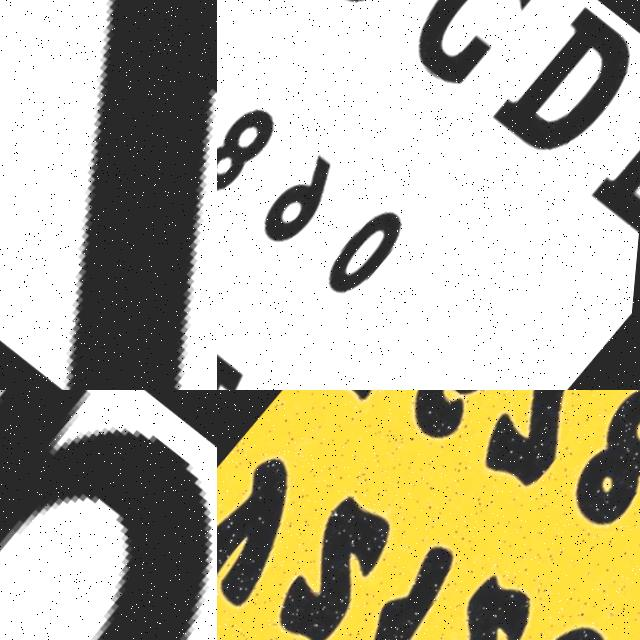0: (315, 186, 438, 316)
1: (319, 525, 495, 640)
2: (385, 556, 579, 640)
5: (281, 390, 480, 444)
6: (354, 390, 558, 484)
7: (434, 390, 640, 530)
8: (518, 390, 640, 576), (217, 87, 302, 213)
9: (250, 138, 367, 262)
Z: (0, 0, 217, 390)
